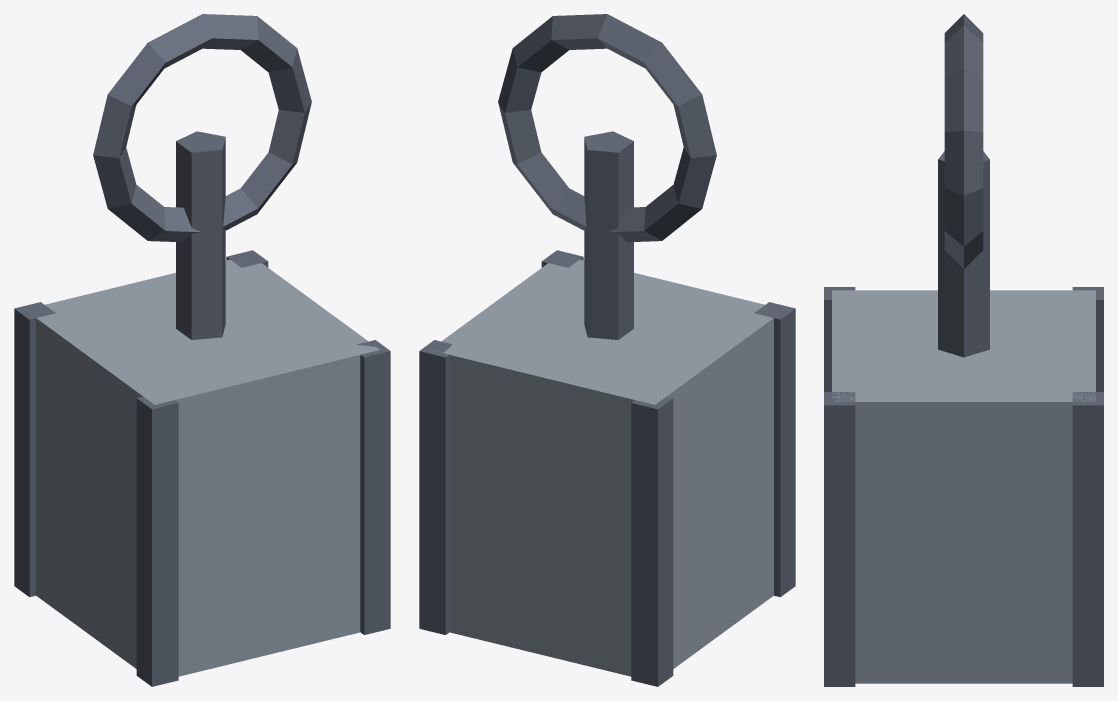
Rendered from farol_recogible.glb.
3 views of the same model, side by side, from view 1: azimuth 30°, elevation 25°; view 2: azimuth 150°, elevation 25°; view 3: azimuth 270°, elevation 25° (orthographic).
Parts seen in each view (by area): view 1: farol_recogible; view 2: farol_recogible; view 3: farol_recogible.
Part boxes in pixels (bbox=[...]): farol_recogible: bbox=[14, 14, 390, 686]; farol_recogible: bbox=[419, 14, 795, 686]; farol_recogible: bbox=[824, 14, 1103, 686].
Size of the model in its own units: 0.36 by 0.855 by 0.36.
